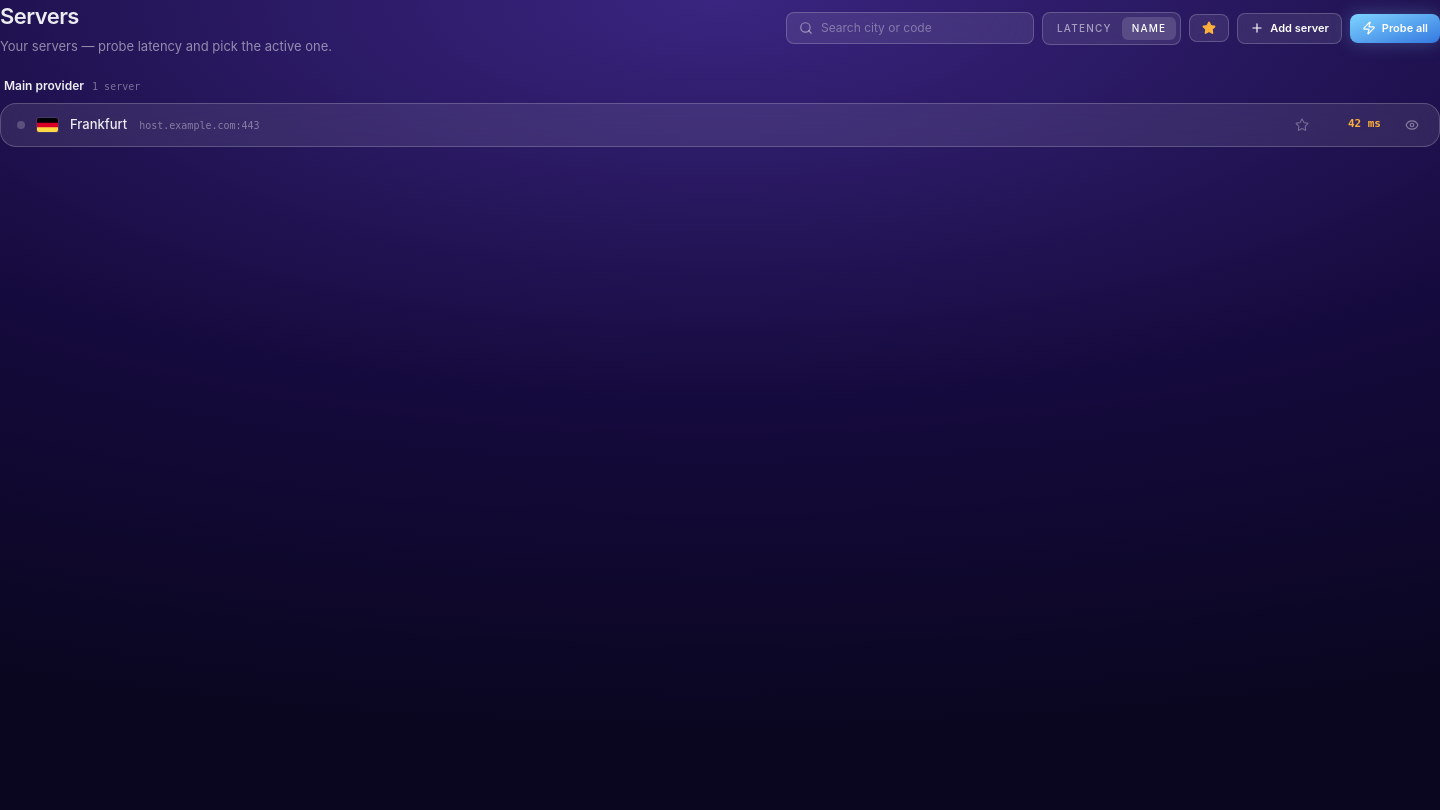
Test case: Servers page › Subscription server opens a view-only modal with the View action
Click the button titled "View details". click: (1412, 124)
box: left=1401, top=114, right=1423, bottom=136
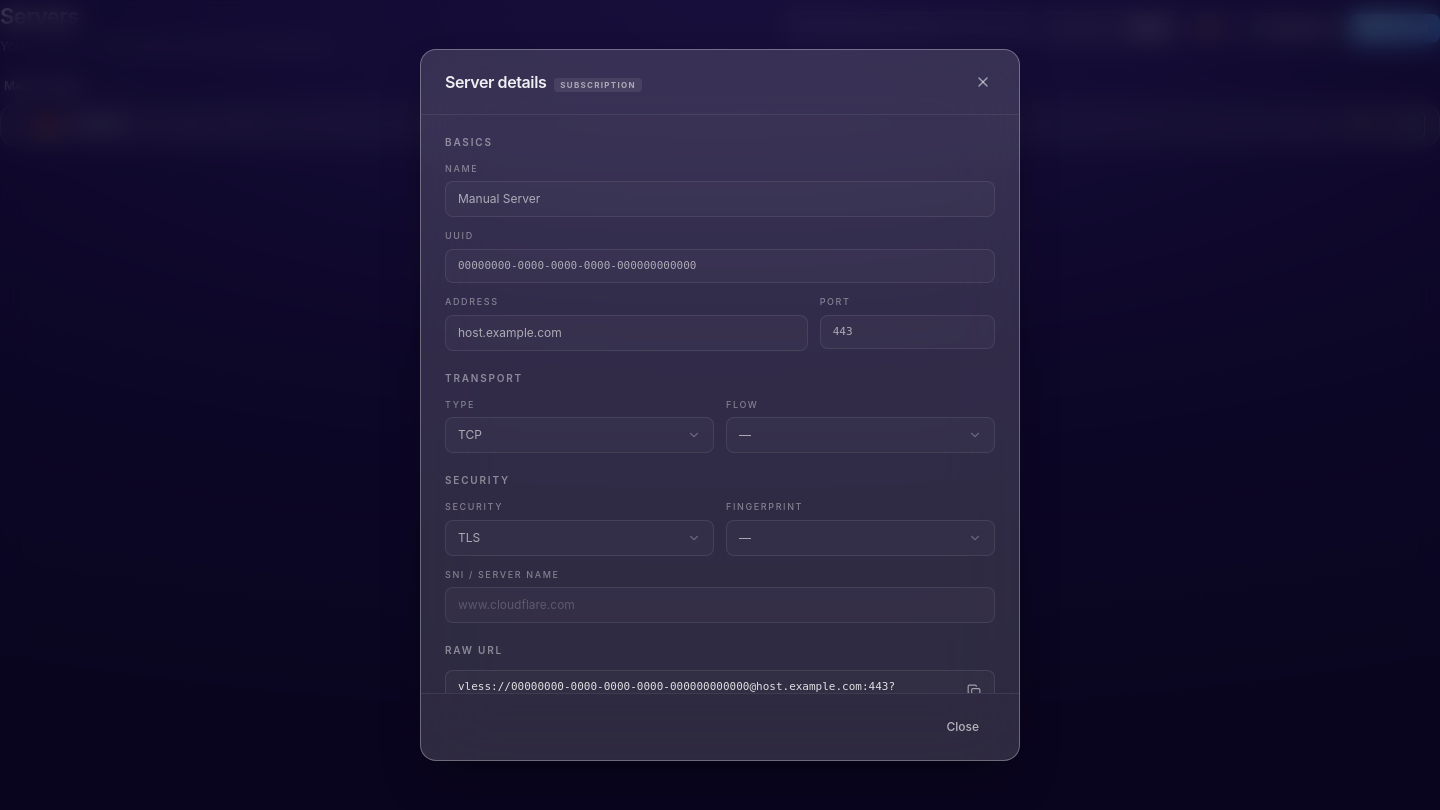
Result: the heading "Server details" is shown at left=445, top=70, right=546, bottom=94
